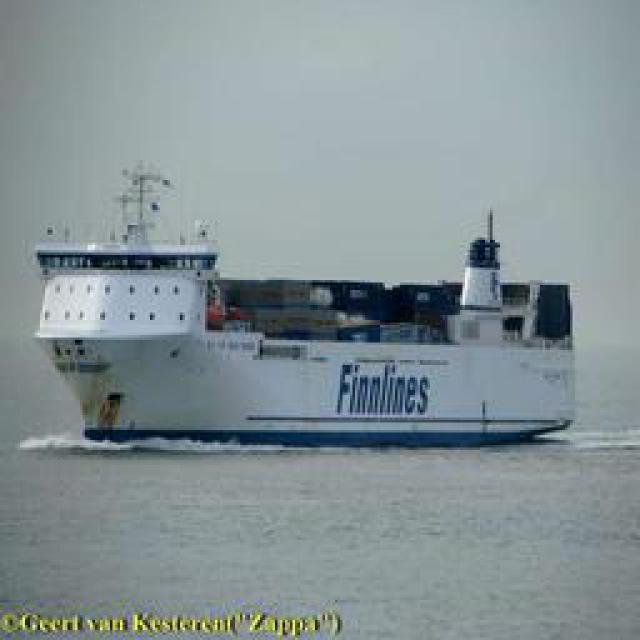Ship: (19, 192, 579, 452)
